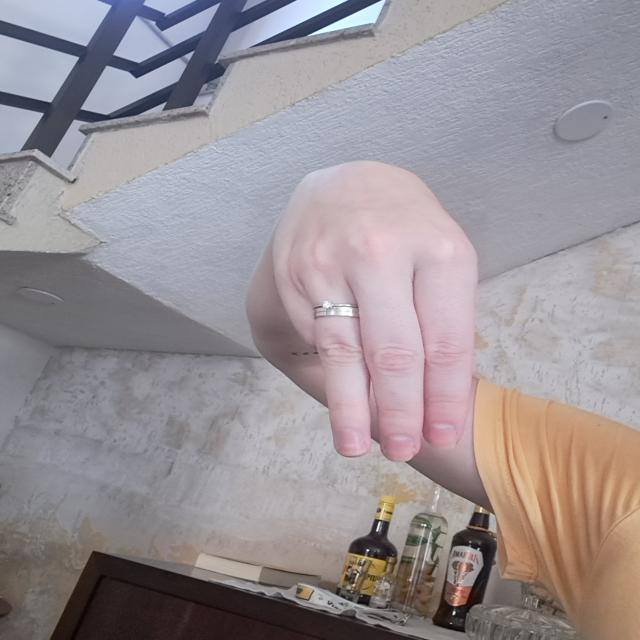M: (254, 143, 502, 473)
